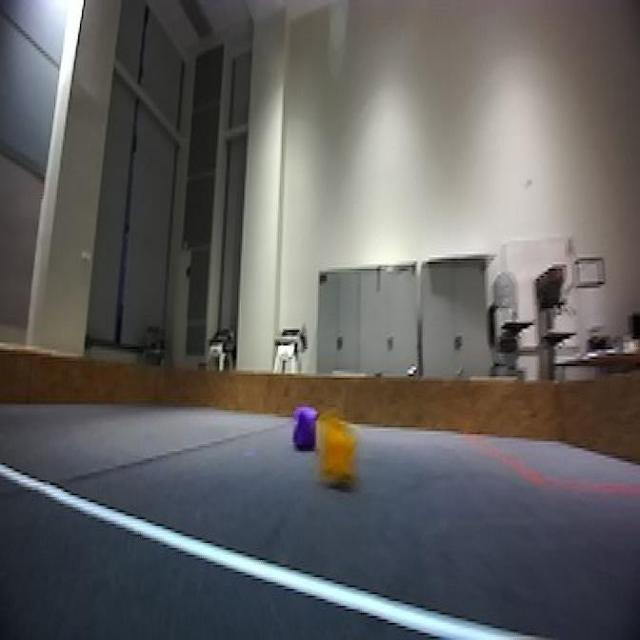frc_cone: (314, 419, 361, 507)
frc_cube: (290, 404, 321, 454)
